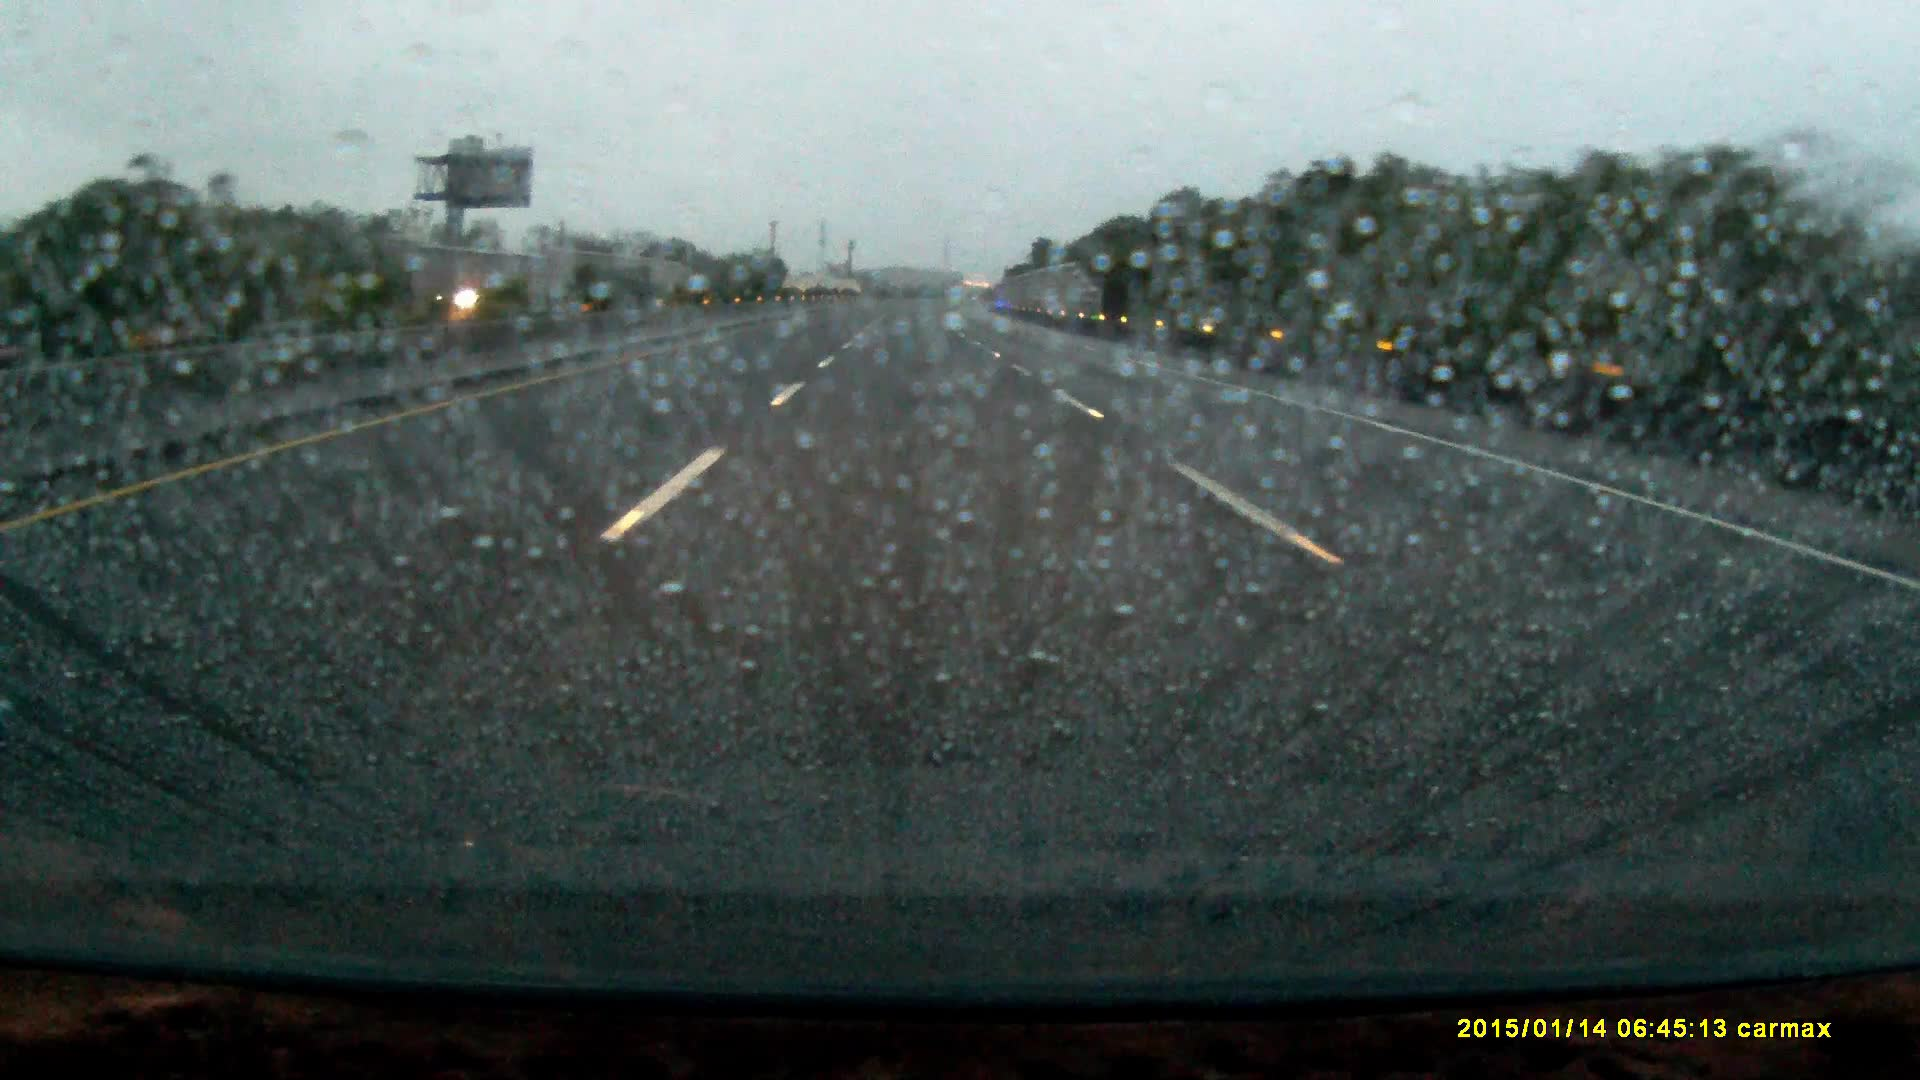vehicle: (434, 266, 545, 313)
